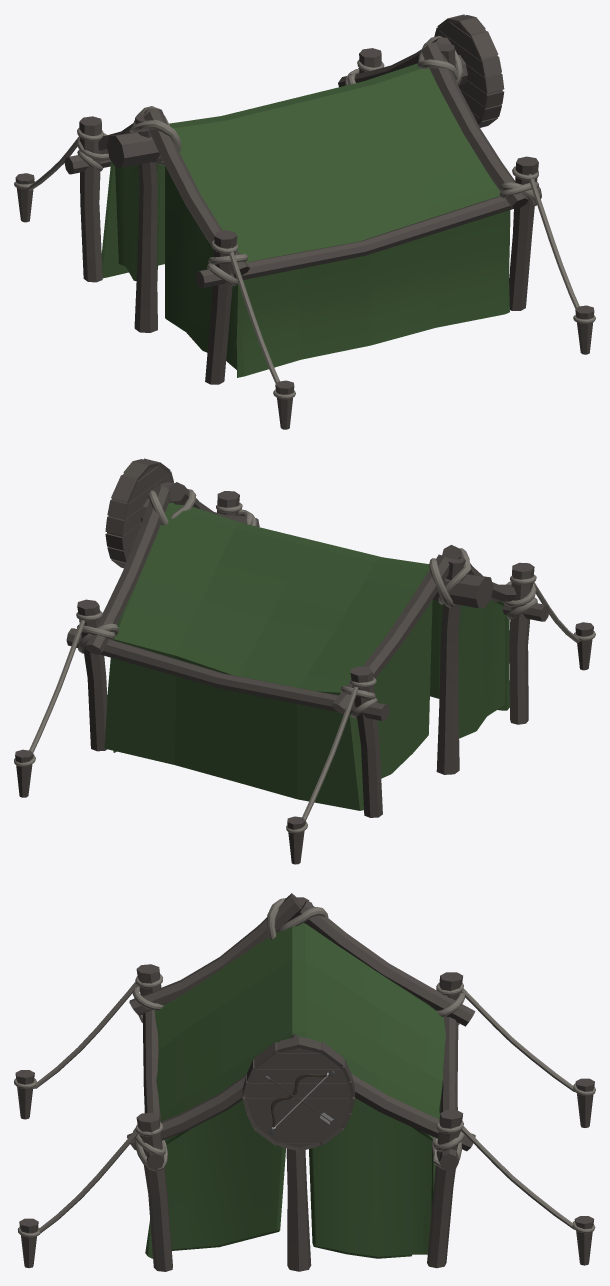
The model's file is product_1lv(bow).fbx.
The picture shows the model from 3 angles, top to bottom: view 1: azimuth 30°, elevation 25°; view 2: azimuth 150°, elevation 25°; view 3: azimuth 270°, elevation 25°; orthographic projection. The views are drawn at different scales.
Parts seen in each view (by area): view 1: product_1_bow; view 2: product_1_bow; view 3: product_1_bow.
Boxes of the visible parts, x1,y1,x2,y2 form: product_1_bow: (14, 14, 595, 429); product_1_bow: (14, 458, 595, 864); product_1_bow: (14, 893, 595, 1271).
Bounding box in the file's own units: 438 × 273 × 604.
